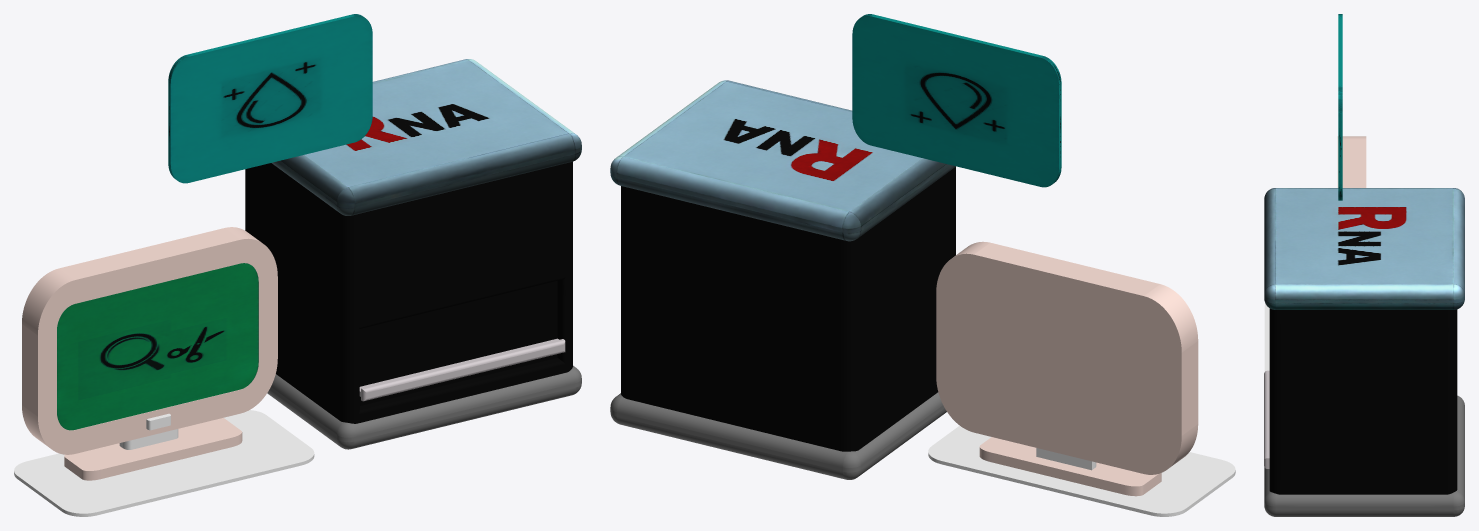
The model's file is 误删源文件.fbx.
3 views of the same model, side by side, from view 1: azimuth 30°, elevation 25°; view 2: azimuth 150°, elevation 25°; view 3: azimuth 270°, elevation 25° (orthographic). The views are drawn at different scales.
Visible parts, largest first — view 1: 物件_224, 物件_255.004, 物件_226, 物件_249, 物件_250, 物件_223, 物件_246, 物件_225, 物件_245, 物件_222; view 2: 物件_224, 物件_250, 物件_226, 物件_255.004, 物件_225, 物件_246, 物件_245; view 3: 物件_224, 物件_226, 物件_225, 物件_250, 物件_255.004, 物件_222, 物件_246.
Part boxes in pixels (x1,y1,x2,y2): 物件_224: (245,161,572,423); 物件_255.004: (168,14,372,183); 物件_226: (272,59,581,215); 物件_249: (57,263,258,430); 物件_250: (22,227,277,454); 物件_223: (359,281,557,405); 物件_246: (14,410,314,516); 物件_225: (267,365,581,449); 物件_245: (64,418,242,480); 物件_222: (359,338,565,401); 物件_224: (621,167,955,451); 物件_250: (936,241,1198,474); 物件_226: (610,80,955,241); 物件_255.004: (852,14,1061,187); 物件_225: (610,392,946,479); 物件_246: (928,425,1235,516); 物件_245: (979,437,1161,496); 物件_224: (1269,308,1457,494); 物件_226: (1264,188,1464,309); 物件_225: (1264,395,1464,516); 物件_250: (1337,136,1366,187); 物件_255.004: (1338,14,1342,200); 物件_222: (1264,370,1269,468); 物件_246: (1264,304,1269,371).
Size of the model in its own units: 46.88 by 34.67 by 17.98.
